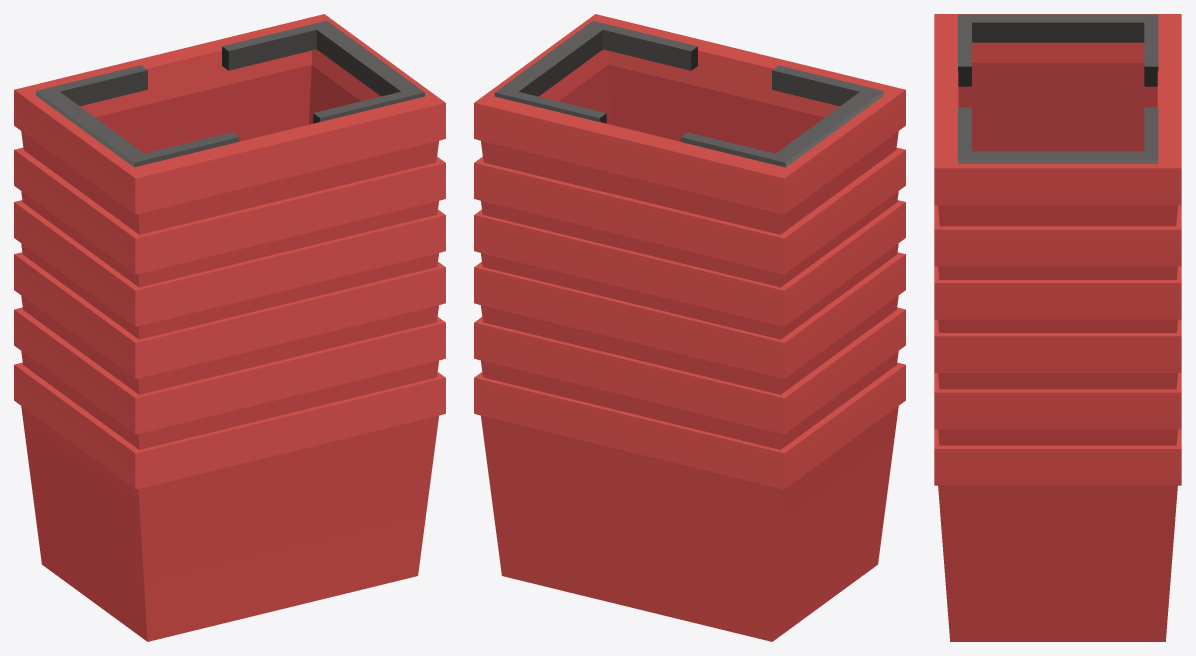
Rendered from BasketStack2.glb.
3 views of the same model, side by side, from view 1: azimuth 30°, elevation 25°; view 2: azimuth 150°, elevation 25°; view 3: azimuth 270°, elevation 25° (orthographic).
Parts seen in each view (by area): view 1: SI_Prop_Basket_Stack_02; view 2: SI_Prop_Basket_Stack_02; view 3: SI_Prop_Basket_Stack_02.
Boxes of the visible parts, x1,y1,x2,y2 form: SI_Prop_Basket_Stack_02: (14, 14, 445, 641); SI_Prop_Basket_Stack_02: (474, 14, 905, 641); SI_Prop_Basket_Stack_02: (934, 14, 1181, 641).
Size of the model in its own units: 0.0104 by 0.0154 by 0.00706.
1 material, 1 textured.
